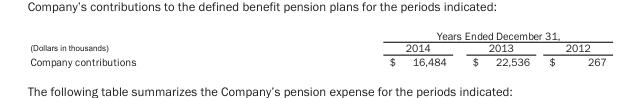table: (29, 29, 605, 67)
table column: (29, 29, 261, 67), (261, 29, 458, 67), (458, 29, 538, 67), (538, 29, 605, 67)
table column header: (29, 29, 605, 54)
table row: (29, 41, 605, 54), (29, 54, 605, 67), (29, 29, 605, 41)
table spanning cell: (29, 29, 261, 54), (261, 29, 605, 41)
